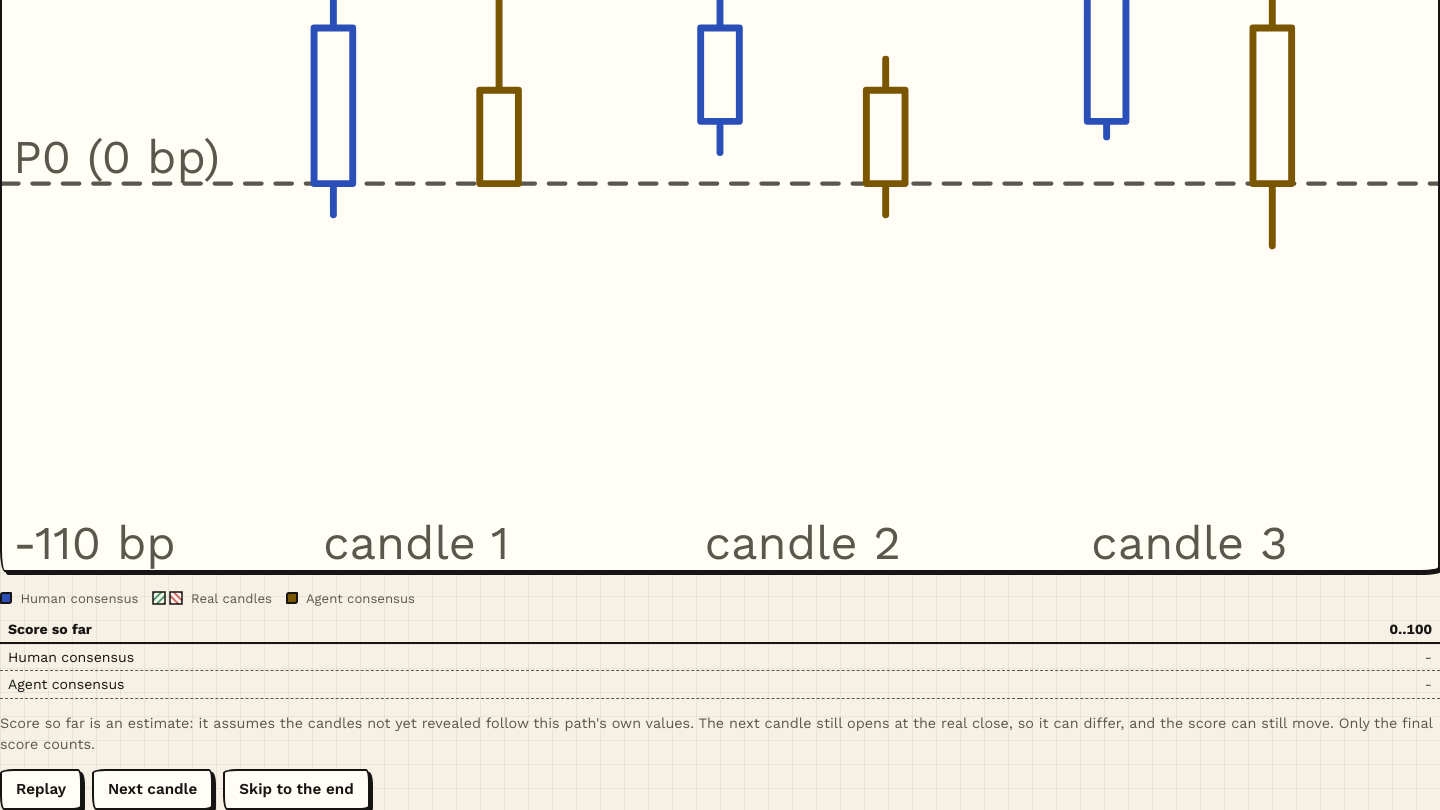
RevealPlayer stepping (real state and timers) › Next candle advances one candle per click and stops at three
The image size is (1440, 810).
(page scrolled)
Click the button "Next candle" at (153, 790), box [92,769,213,809]
(page scrolled)
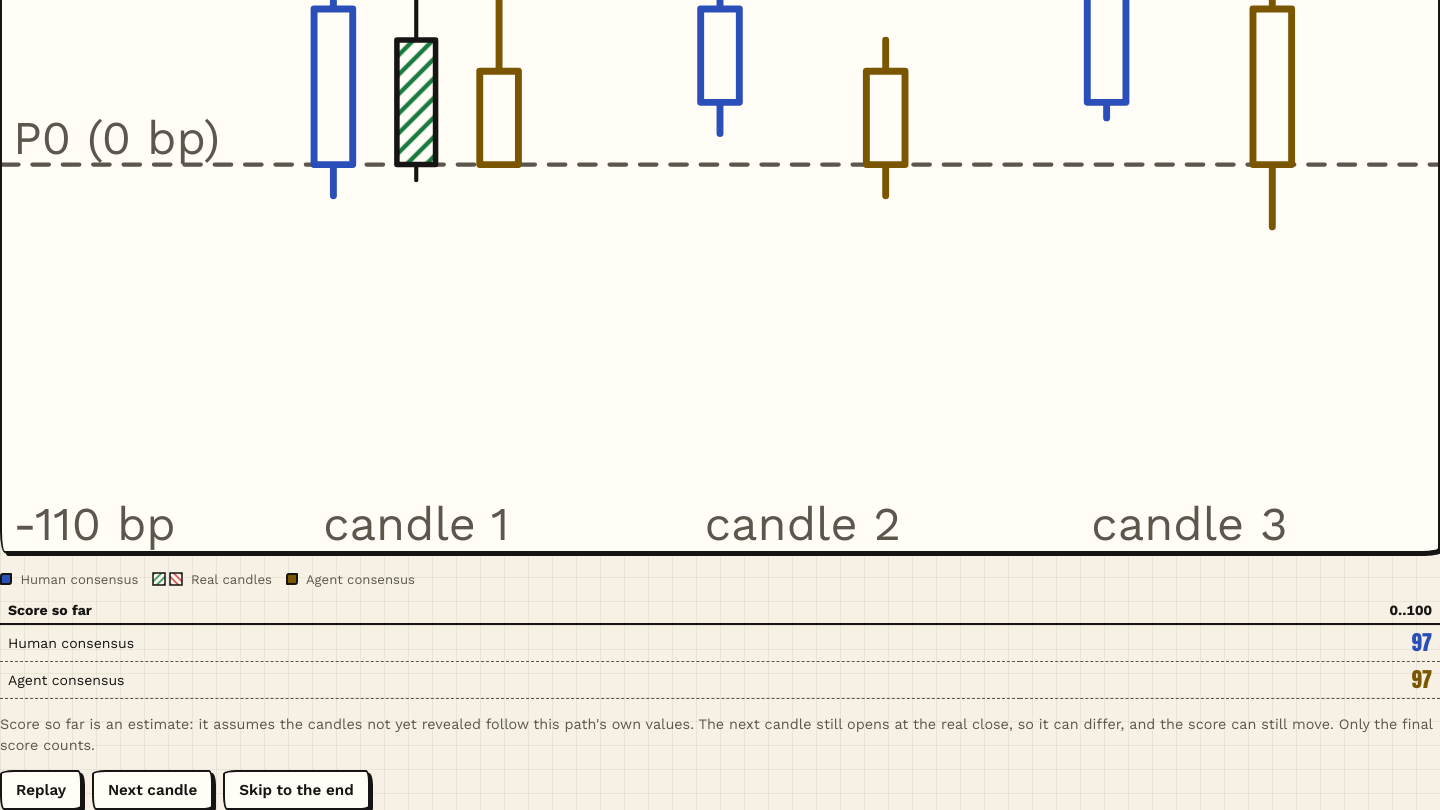
Click the button "Next candle" at (153, 790), box [92,770,213,809]
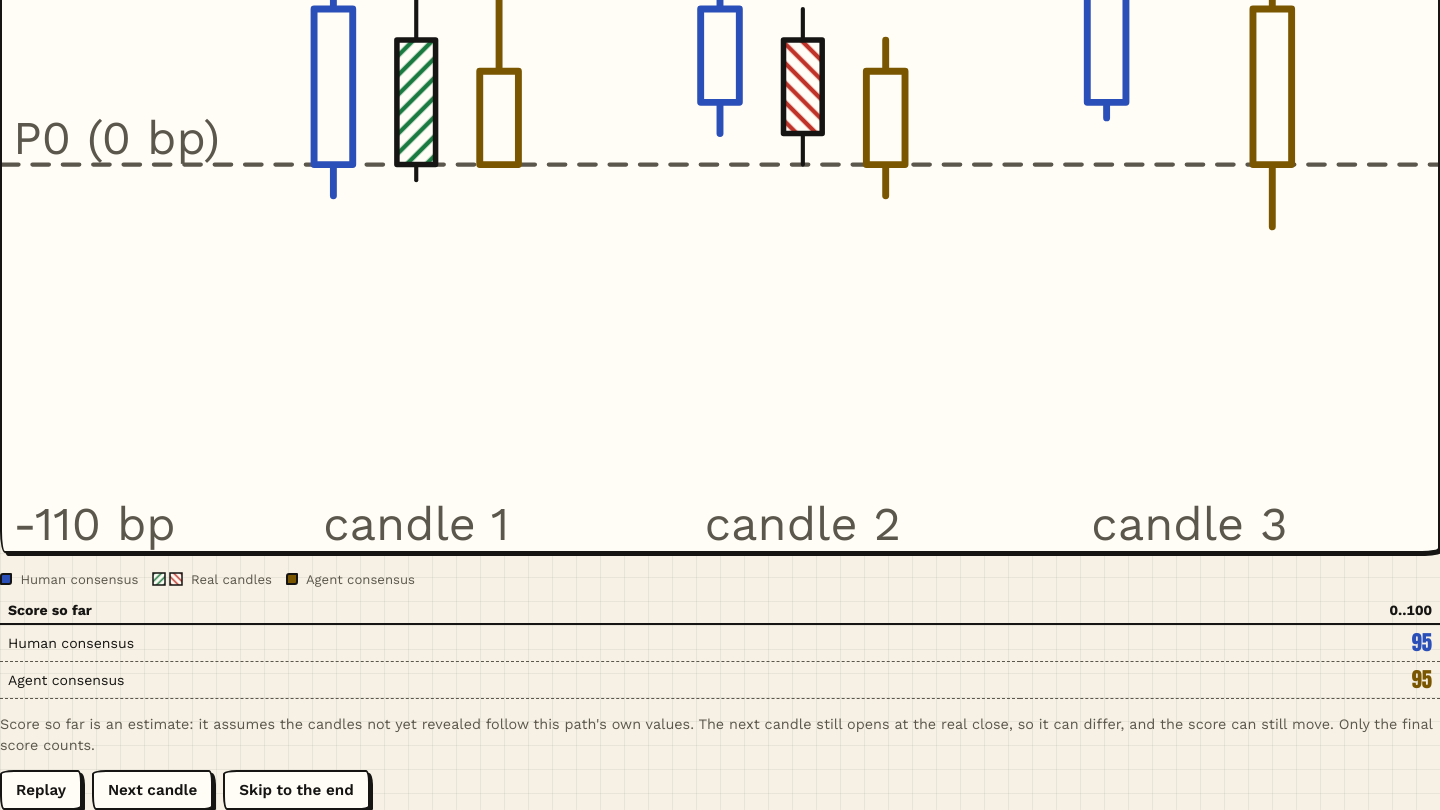
Click the button "Next candle" at (153, 790), box [92,770,213,809]
Wait 15000 ms
(page scrolled)
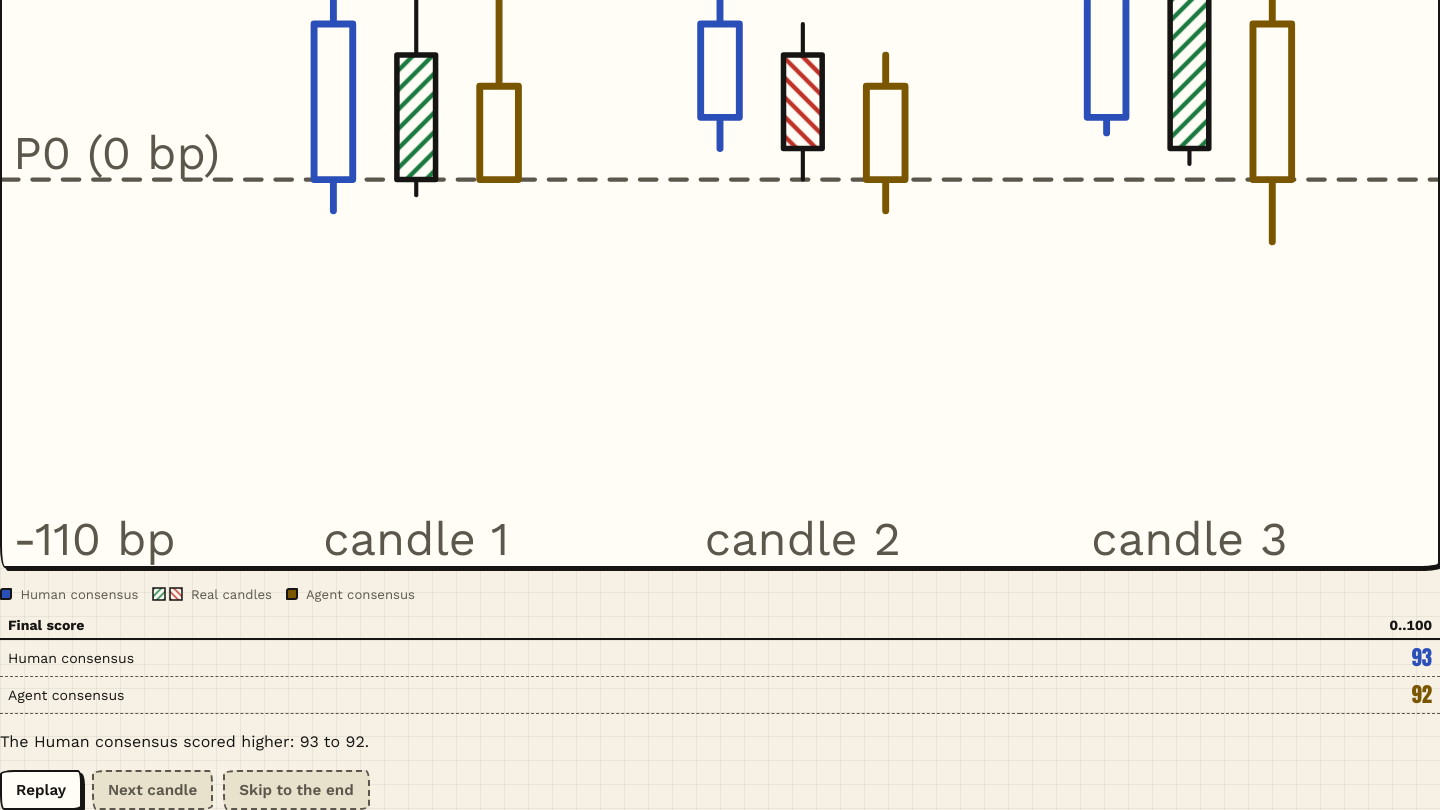
expect the button "Next candle" is disabled: met, box [92,770,213,809]
